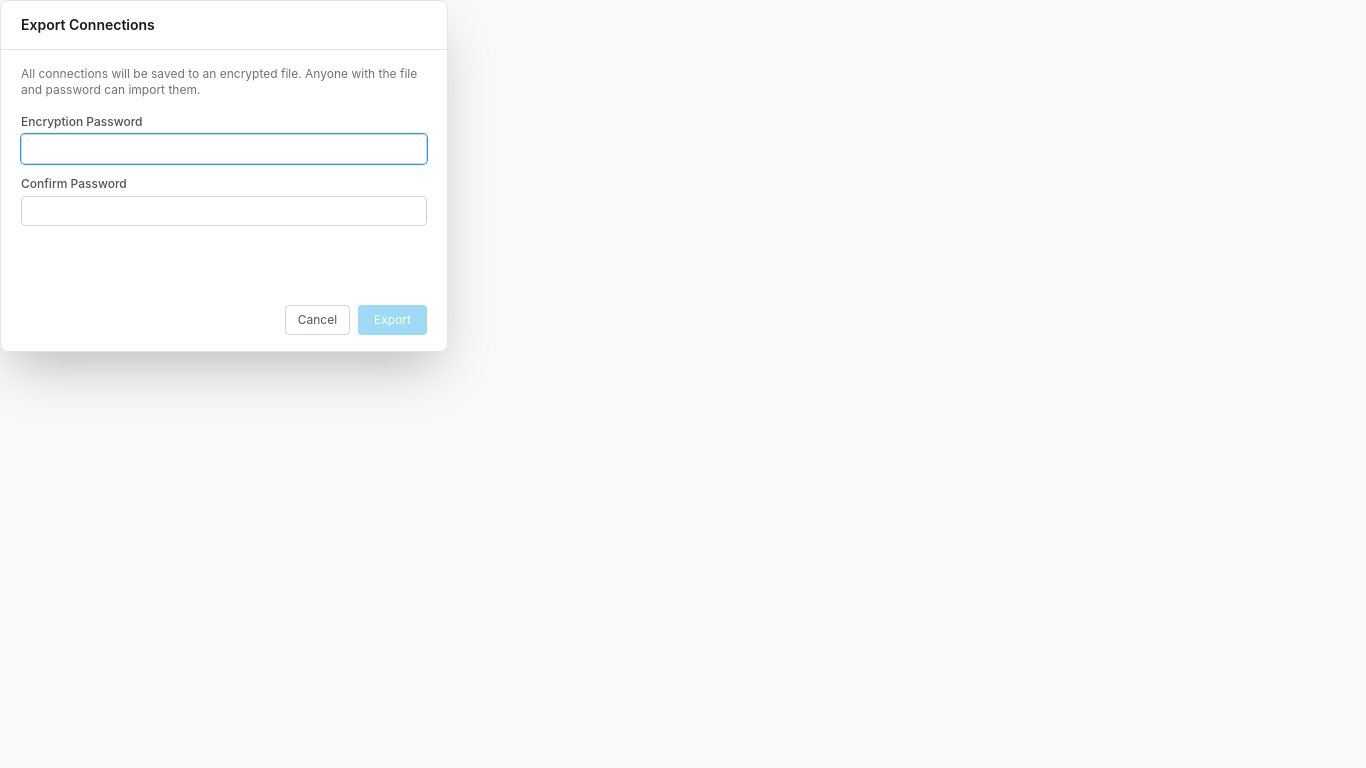
Test case: connection transfer dialogs › keeps the export dialog shell stable after success
The width and height of the screenshot is (1366, 768).
In the password field labelled "Encryption Password": (224, 149) [21, 134, 427, 164], type "secret"
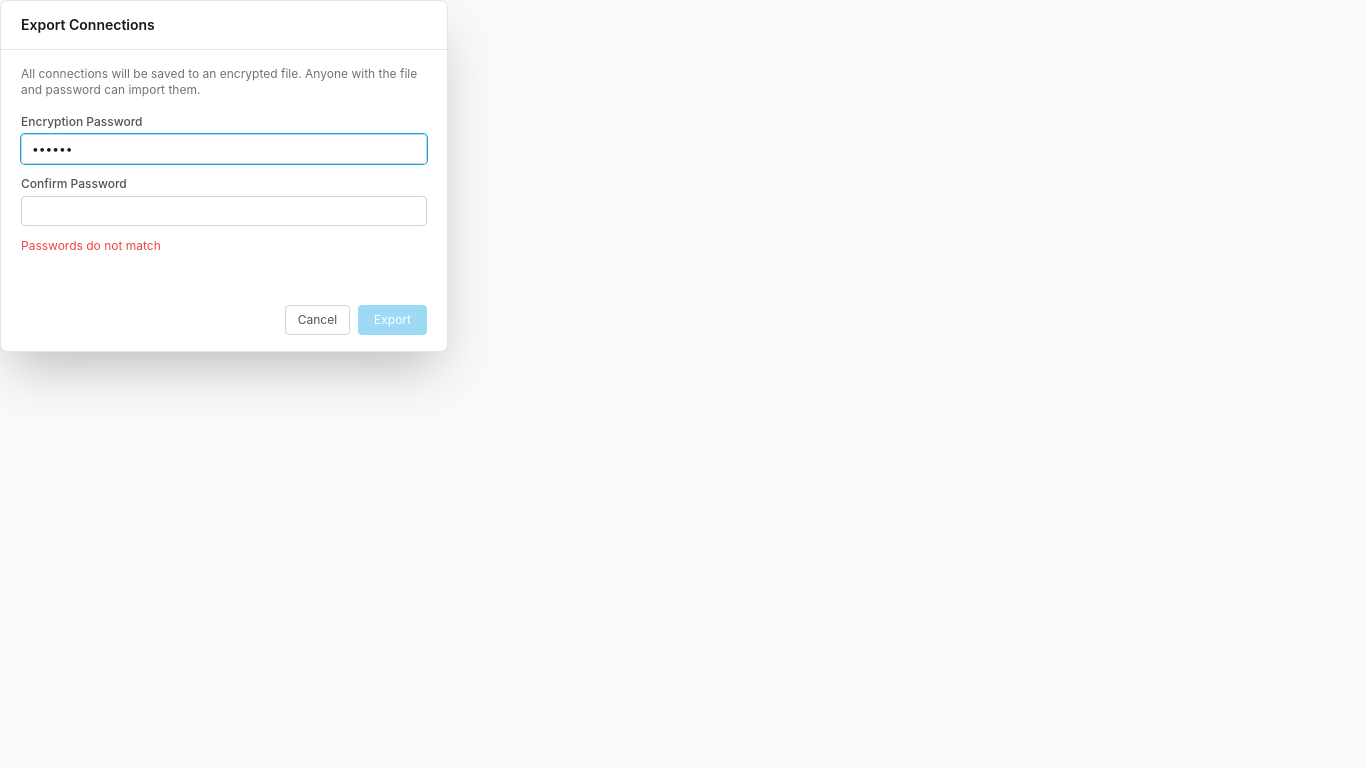
In the password field labelled "Confirm Password": (224, 211) [21, 196, 427, 226], type "secret"
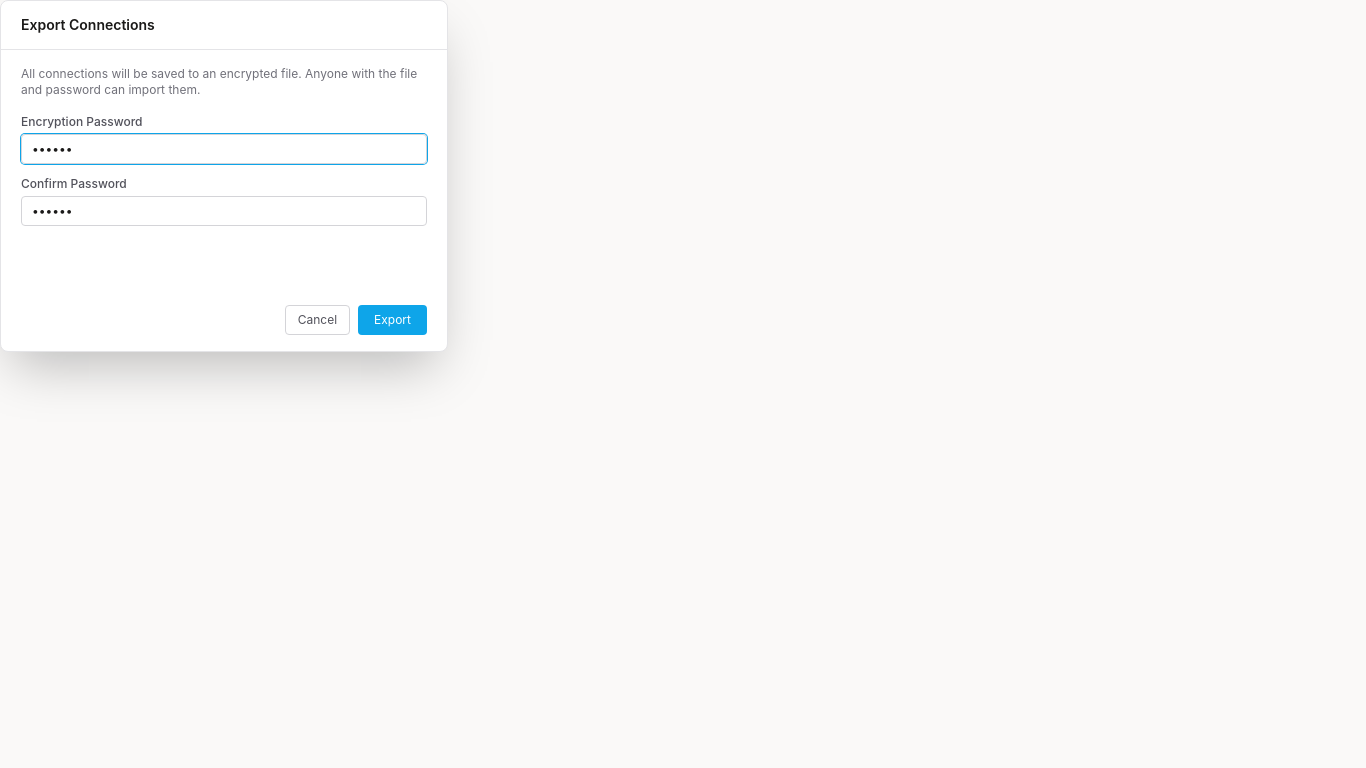
Click the button "Export": (393, 320) [358, 305, 427, 335]
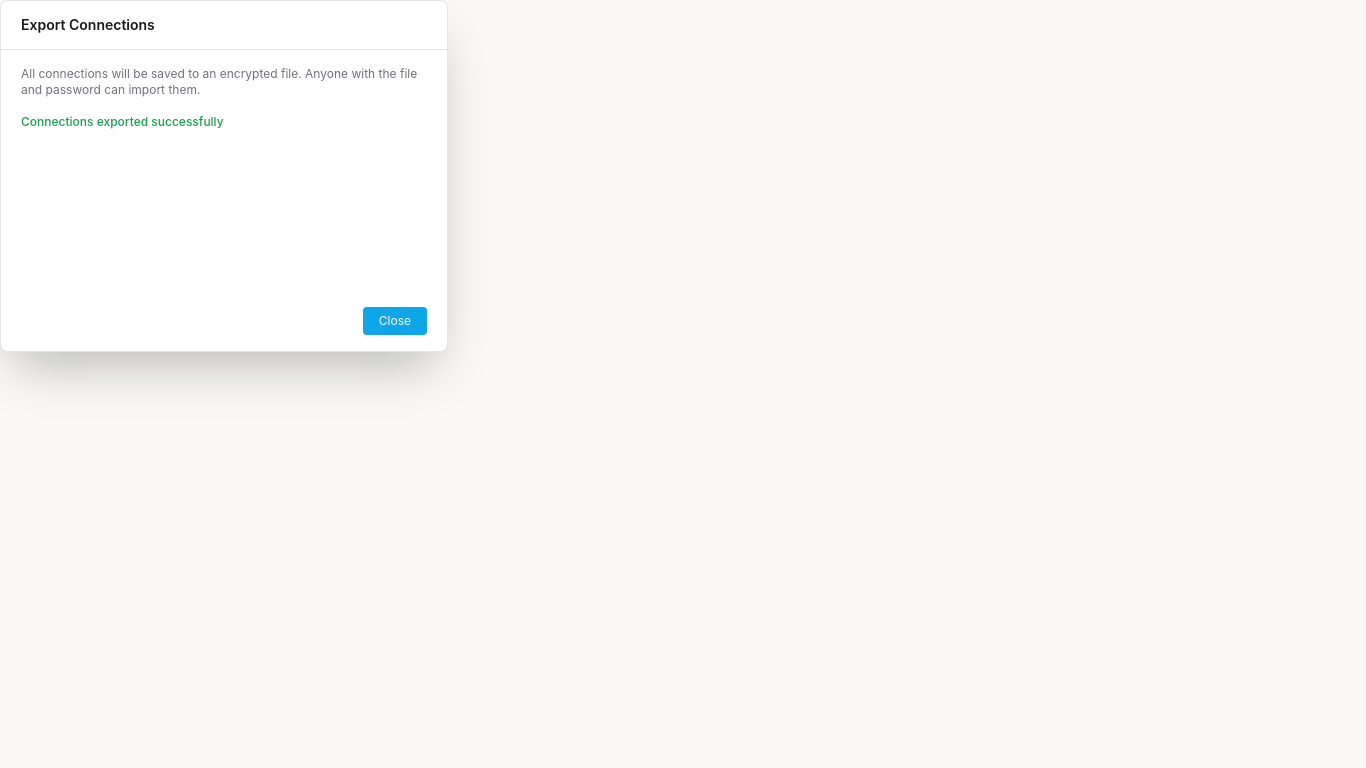
Check: the message "Connections exported successfully" is shown, box [21, 114, 224, 129]
